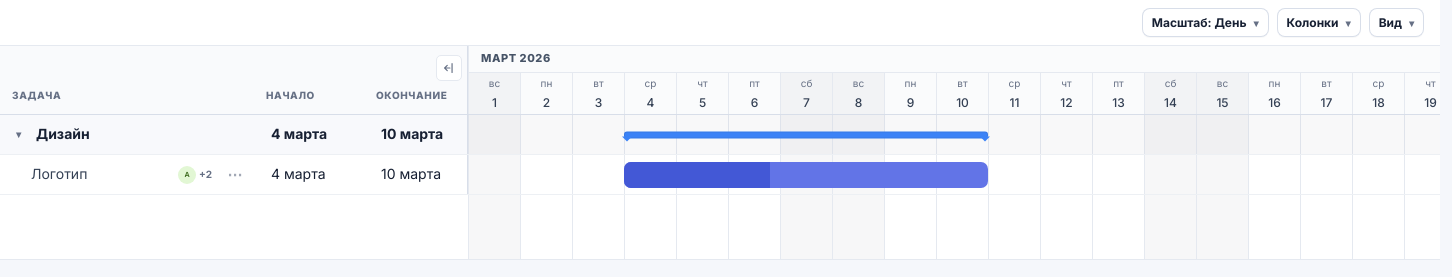
Test: карточка наведения на полоску › нескольких сводит к первому и счётчику остальных
Hover over the button named "Логотип" at {"x": 697, "y": 174}, box [624,162,988,188]
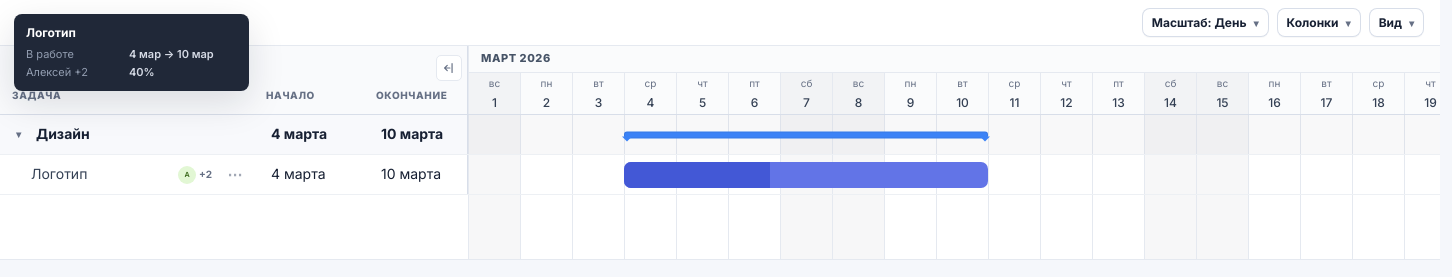
Expected: the element with test id "bar-tip" does not show "Мария", [14,14,249,91]
Expected: the element with test id "bar-tip" shows "Алексей +2", [26,65,88,79]
